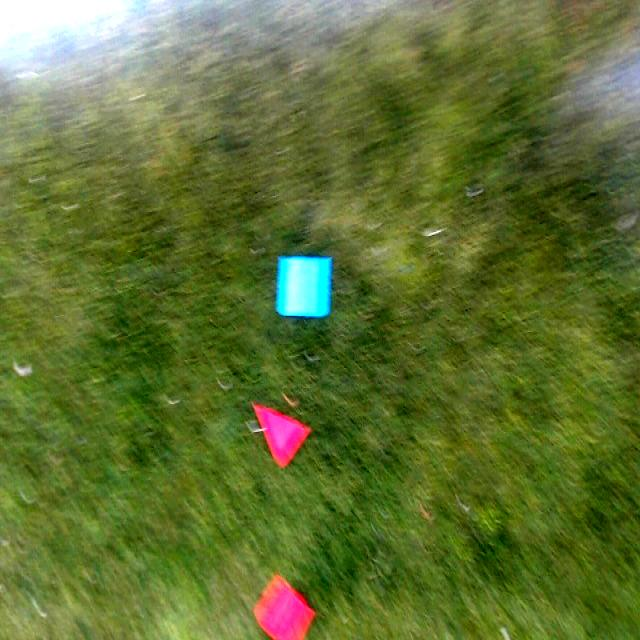blue_square: (279, 259, 329, 316)
red_triangle: (254, 402, 308, 468)
